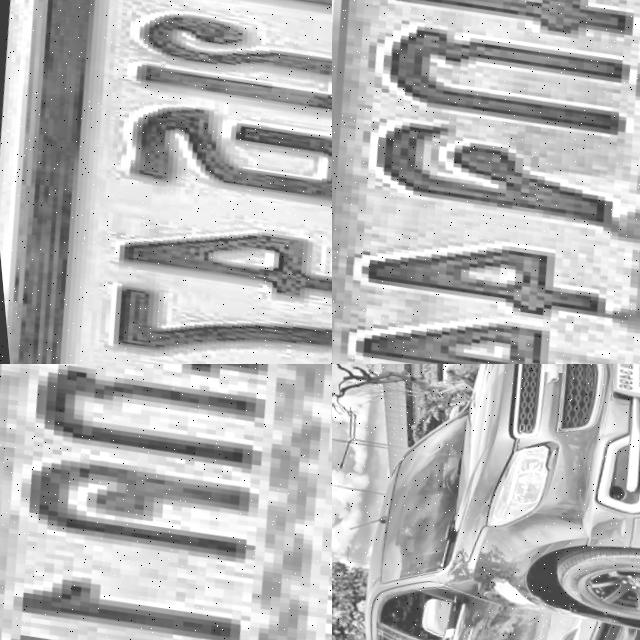license-plate: (0, 0, 332, 364), (332, 0, 640, 364), (0, 364, 332, 640), (601, 364, 640, 401)
